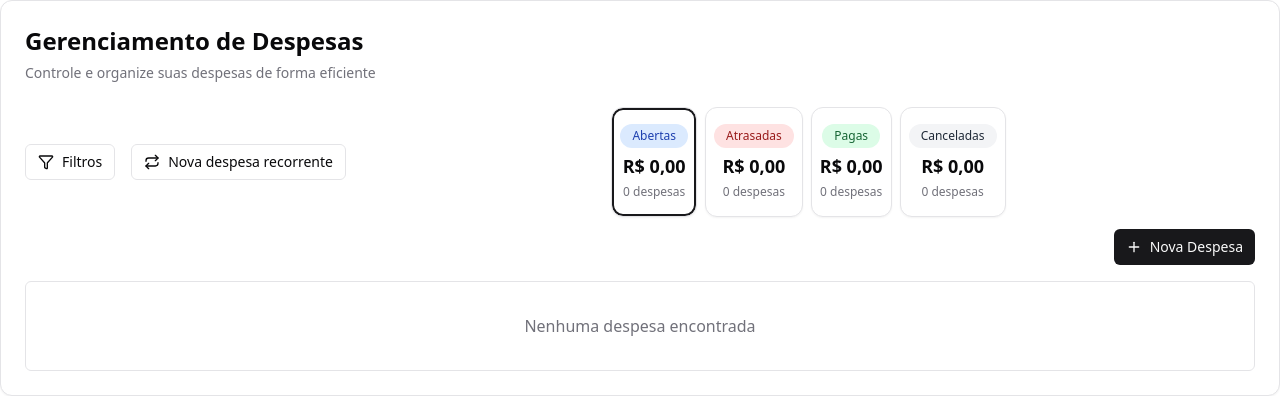
Despesa › Clear Filters Button › should show clear filters button when filters differ from default
What coordinates should you click on to do the following:
click the element with test id "status-card-paid"
I would click on:
 (851, 162)
Its box is x1=811 y1=107 x2=892 y2=217.
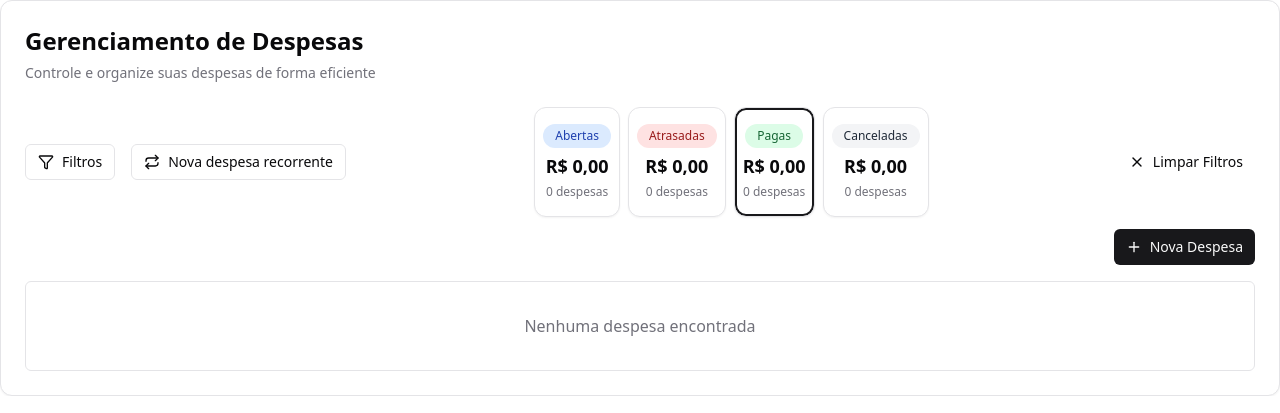
Now the button with test id "clear-filters-button" is shown, box x1=1117 y1=144 x2=1255 y2=180
